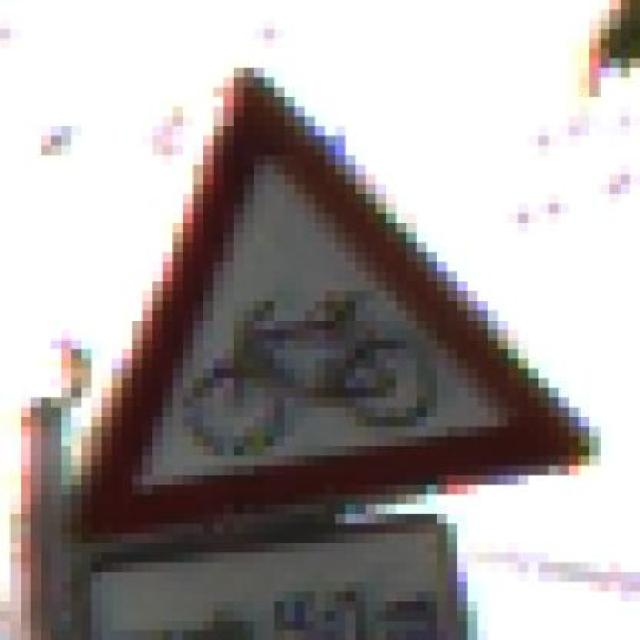CYCLE ROUTE AHEAD WARNING: (20, 58, 620, 553)
